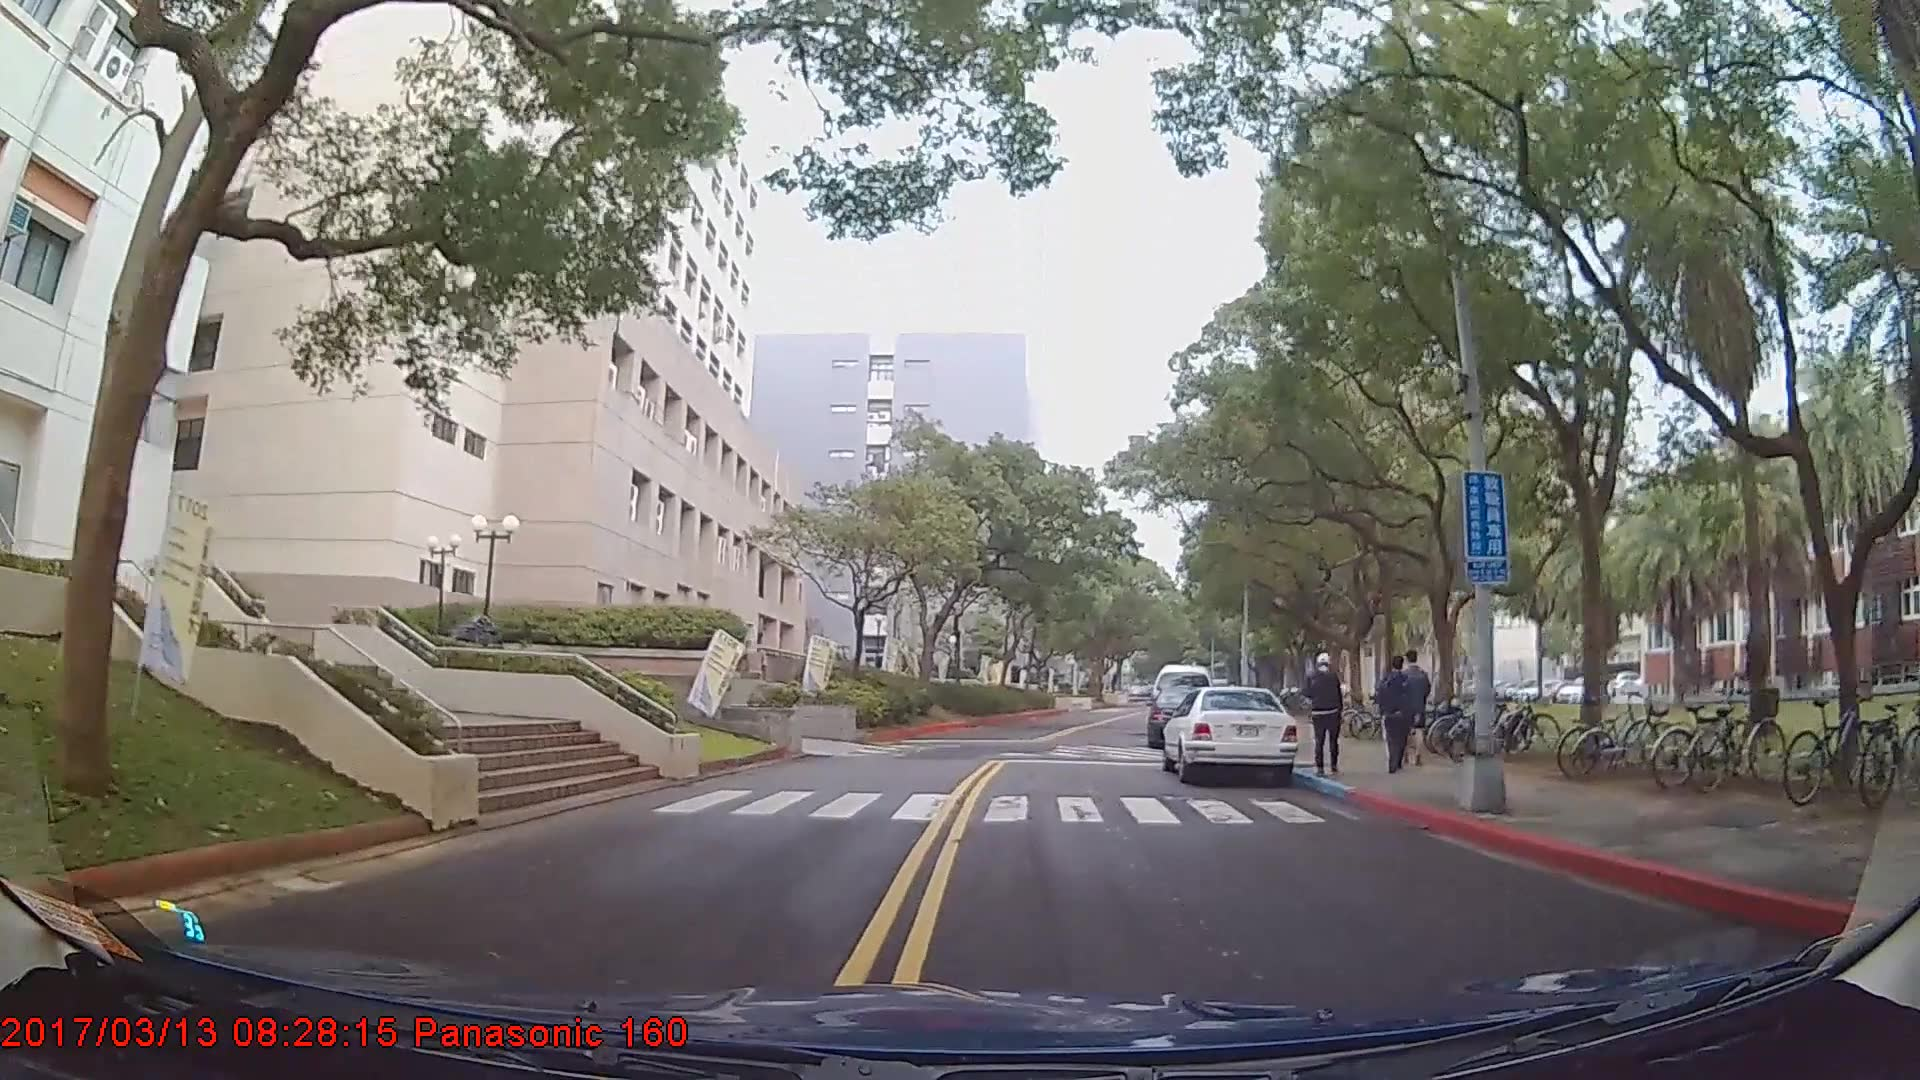pedestrian: (1379, 645, 1424, 774), (1311, 653, 1346, 776)
vehicle: (1158, 685, 1298, 785)
